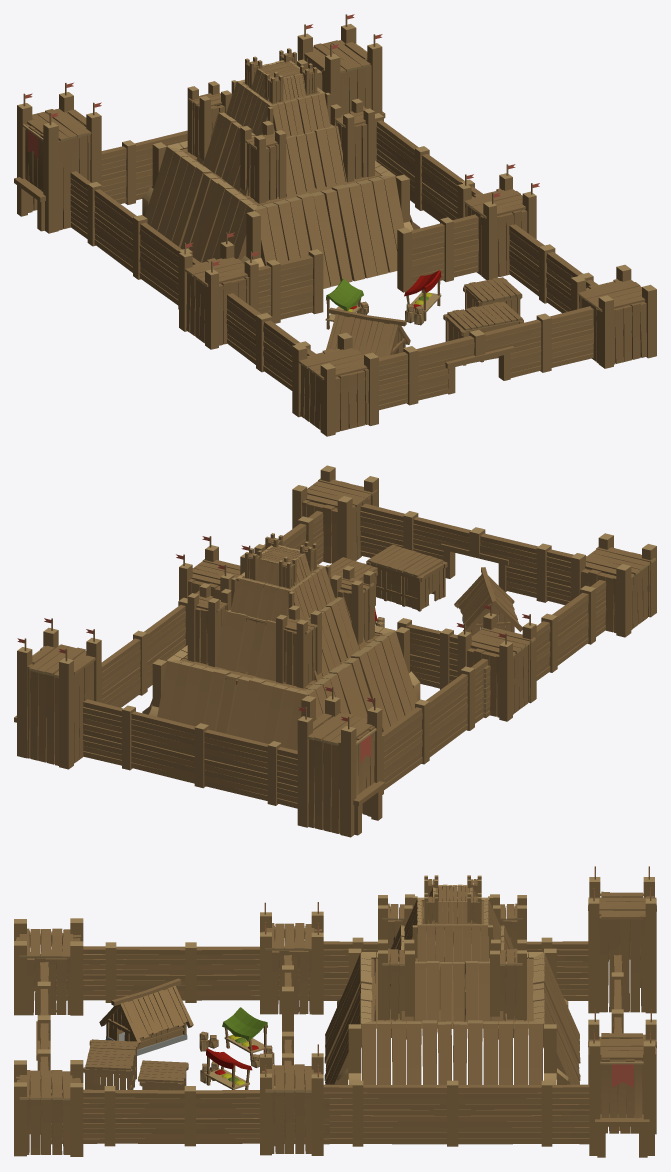
File: clanhold-MC-III.glb
3 views of the same model, one above another, from view 1: azimuth 30°, elevation 25°; view 2: azimuth 150°, elevation 25°; view 3: azimuth 270°, elevation 25° (orthographic). The views are drawn at different scales.
Visible parts, largest first — view 1: Wonder_FirstAge_Level3, WallTowers_Door_FirstAge.001, Wall_FirstAge.001, Wall_FirstAge, Houses_FirstAge_3_Level3, Houses_FirstAge_1_Level3, Market_FirstAge_Level1; view 2: Wonder_FirstAge_Level3, WallTowers_Door_FirstAge.001, Wall_FirstAge.001, Houses_FirstAge_3_Level3, Houses_FirstAge_1_Level3, Wall_FirstAge; view 3: Wonder_FirstAge_Level3, WallTowers_Door_FirstAge.001, Wall_FirstAge, Wall_FirstAge.001, Houses_FirstAge_1_Level3, Houses_FirstAge_3_Level3, Market_FirstAge_Level1.
Part boxes in pixels (x1=…): Wonder_FirstAge_Level3: x1=14, y1=14, x2=539, y2=349; WallTowers_Door_FirstAge.001: x1=292, y1=264, x2=656, y2=436; Wall_FirstAge.001: x1=226, y1=293, x2=315, y2=390; Wall_FirstAge: x1=509, y1=224, x2=598, y2=313; Houses_FirstAge_3_Level3: x1=443, y1=277, x2=523, y2=365; Houses_FirstAge_1_Level3: x1=326, y1=307, x2=410, y2=357; Market_FirstAge_Level1: x1=325, y1=270, x2=441, y2=329; Wonder_FirstAge_Level3: x1=14, y1=533, x2=536, y2=837; WallTowers_Door_FirstAge.001: x1=292, y1=465, x2=656, y2=637; Wall_FirstAge.001: x1=483, y1=574, x2=612, y2=717; Houses_FirstAge_3_Level3: x1=330, y1=544, x2=447, y2=611; Houses_FirstAge_1_Level3: x1=454, y1=567, x2=522, y2=635; Wall_FirstAge: x1=218, y1=507, x2=337, y2=587; Wonder_FirstAge_Level3: x1=260, y1=866, x2=656, y2=1157; WallTowers_Door_FirstAge.001: x1=14, y1=918, x2=83, y2=1156; Wall_FirstAge: x1=51, y1=1086, x2=329, y2=1146; Wall_FirstAge.001: x1=51, y1=942, x2=329, y2=1002; Houses_FirstAge_1_Level3: x1=99, y1=978, x2=193, y2=1055; Houses_FirstAge_3_Level3: x1=83, y1=1039, x2=188, y2=1090; Market_FirstAge_Level1: x1=199, y1=1007, x2=274, y2=1089.
Bounding box in the file's own units: 5.71 × 2.84 × 8.86.
